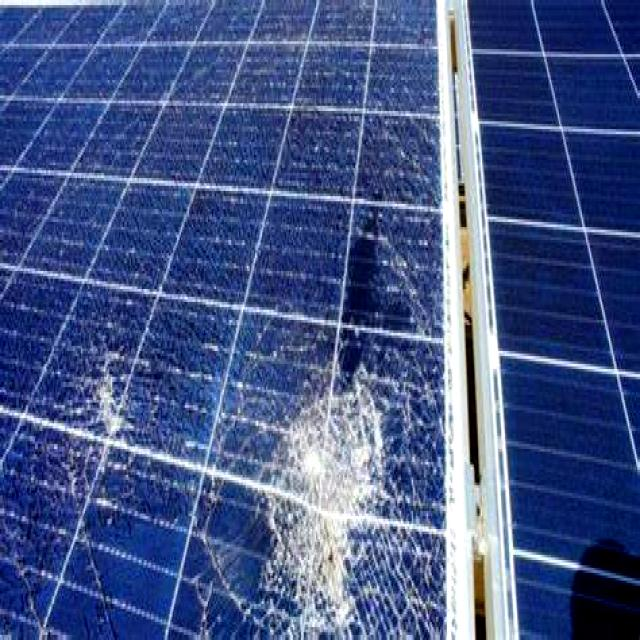hotspot: (218, 343, 394, 640), (73, 331, 145, 451)
